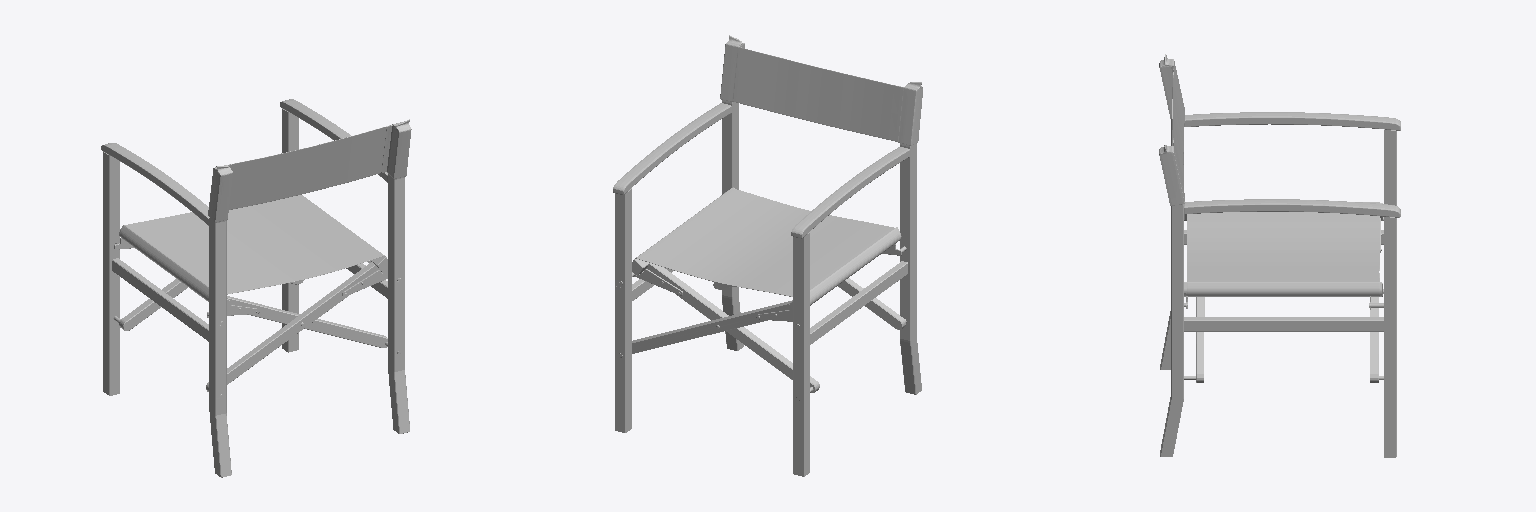
Rendered from Chair IKEA Siaro N031120.obj.
3 renders of one model, left to right at view 1: azimuth 30°, elevation 25°; view 2: azimuth 150°, elevation 25°; view 3: azimuth 270°, elevation 25°, orthographic.
Visible parts, largest first — view 1: Plane002, Plane014, Box009, Box002, Box006, Box010, Box007, Box012, Box008, Box003, Box005; view 2: Plane002, Plane014, Box003, Box006, Box009, Box010, Box012, Box002, Box005, Box007, Box008; view 3: Plane002, Box002, Box003, Box004, Box005, Box007, Plane014, Box012, Box006.
Part boxes in pixels (x1,y1,x2,y2): Plane002: (120,195,385,301); Plane014: (208,119,411,222); Box009: (209,218,231,477); Box002: (388,174,409,433); Box006: (103,152,119,395); Box010: (119,256,387,391); Box007: (101,143,209,225); Box012: (119,225,387,347); Box008: (112,258,208,341); Box003: (282,109,298,352); Box005: (280,99,387,182); Plane002: (635,188,900,305); Plane014: (720,35,922,145); Box003: (615,188,631,432); Box006: (793,232,809,476); Box009: (900,143,921,394); Box010: (632,187,905,392); Box012: (632,227,901,353); Box002: (722,100,743,350); Box005: (613,103,731,194); Box007: (791,147,909,238); Box008: (810,261,907,344); Plane002: (1187,202,1379,296); Box002: (1160,204,1183,456); Box003: (1384,217,1396,457); Box004: (1184,317,1383,331); Box005: (1184,199,1400,217); Box007: (1184,112,1400,130); Plane014: (1159,54,1184,205); Box012: (1184,203,1382,382); Box006: (1384,129,1396,205).
Bounding box in the file's own units: 518 × 794 × 561.